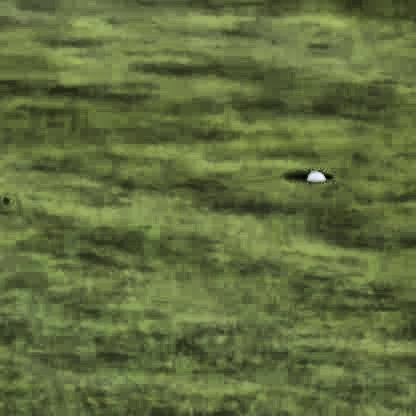golfball: (305, 174, 323, 184)
